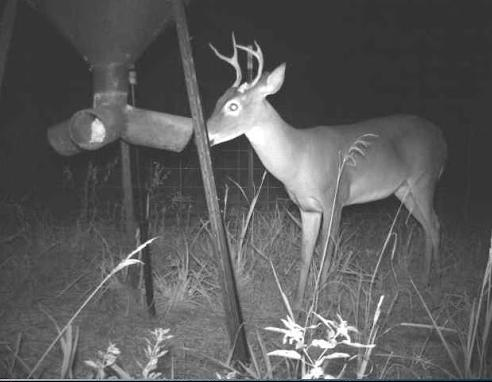Deer: (198, 23, 459, 316)
